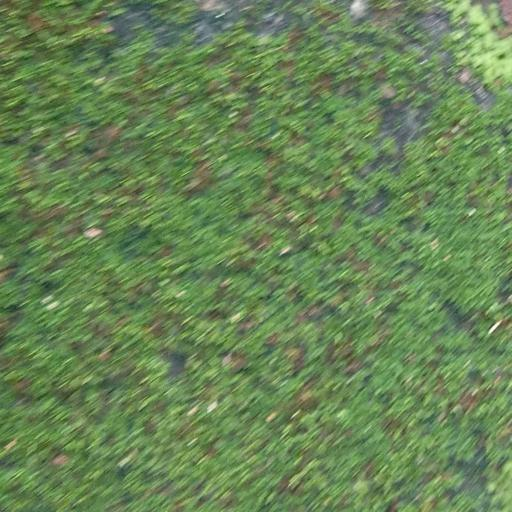algae: (11, 6, 512, 512)
